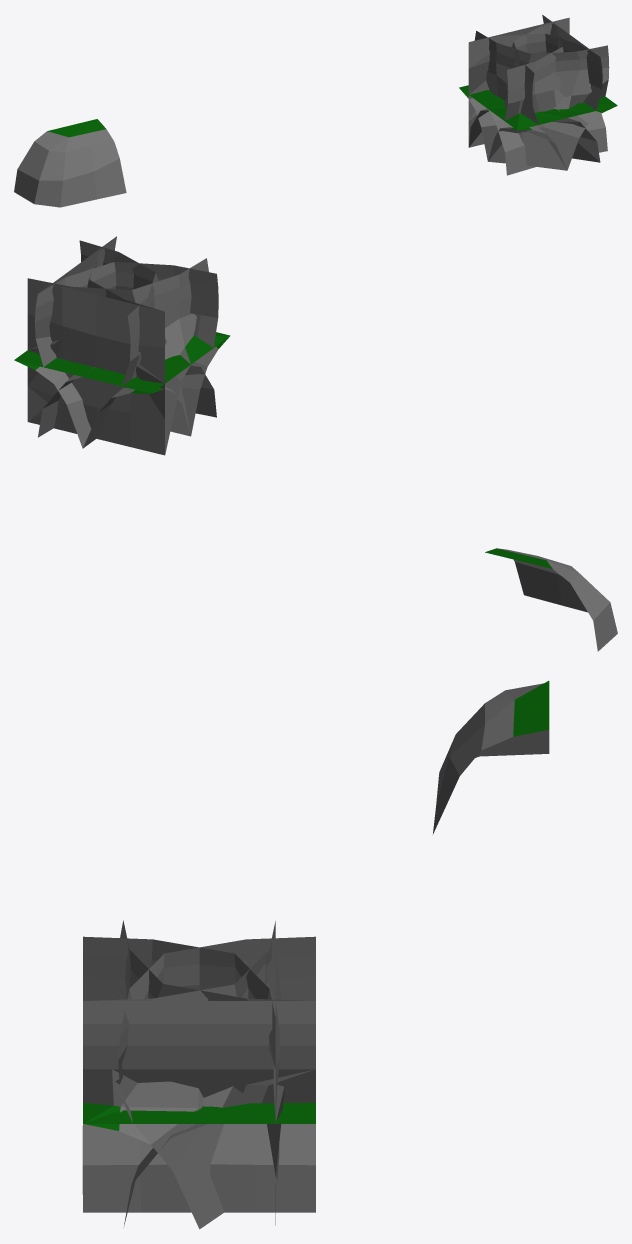
File: wfc_modules.glb
3 renders of one model, top to bottom at view 1: azimuth 30°, elevation 25°; view 2: azimuth 150°, elevation 25°; view 3: azimuth 270°, elevation 25°, orthographic. The views are drawn at different scales.
Visible parts, largest first — view 1: TopCornerTransition.001, wfc_module_2, wfc_module_3, wfc_module_11, wfc_module_1, wfc_module_4, wfc_module_5, wfc_module_9, wfc_module_7, wfc_module_10, wfc_module_12, wfc_module_6 (+1 smaller); view 2: wfc_module_12, wfc_module_1, wfc_module_11, TopCornerTransition.001, wfc_module_2, wfc_module_6, wfc_module_10, wfc_module_4, wfc_module_8, wfc_module_7, wfc_module_3, wfc_module_9; view 3: wfc_module_7, wfc_module_9, wfc_module_3, wfc_module_1, TopCornerTransition.001, wfc_module_2, wfc_module_11.
Boxes of the visible parts, left/top/right/bottom form: TopCornerTransition.001: left=14, top=119, right=126, bottom=207; wfc_module_2: left=459, top=31, right=616, bottom=170; wfc_module_3: left=468, top=33, right=616, bottom=147; wfc_module_11: left=504, top=15, right=592, bottom=120; wfc_module_1: left=469, top=17, right=569, bottom=146; wfc_module_4: left=488, top=109, right=535, bottom=175; wfc_module_5: left=552, top=118, right=600, bottom=162; wfc_module_9: left=459, top=85, right=579, bottom=124; wfc_module_7: left=543, top=15, right=615, bottom=110; wfc_module_10: left=585, top=114, right=607, bottom=152; wfc_module_12: left=468, top=18, right=566, bottom=120; wfc_module_6: left=488, top=127, right=555, bottom=160; wfc_module_12: left=27, top=278, right=164, bottom=455; wfc_module_1: left=27, top=258, right=229, bottom=454; wfc_module_11: left=34, top=262, right=218, bottom=347; TopCornerTransition.001: left=485, top=548, right=617, bottom=651; wfc_module_2: left=79, top=240, right=190, bottom=434; wfc_module_6: left=170, top=336, right=229, bottom=436; wfc_module_10: left=15, top=360, right=91, bottom=448; wfc_module_4: left=38, top=364, right=216, bottom=437; wfc_module_8: left=19, top=350, right=170, bottom=393; wfc_module_7: left=14, top=236, right=116, bottom=367; wfc_module_3: left=87, top=236, right=164, bottom=418; wfc_module_9: left=66, top=355, right=190, bottom=392; wfc_module_7: left=83, top=1001, right=315, bottom=1123; wfc_module_9: left=83, top=1124, right=315, bottom=1212; wfc_module_3: left=83, top=921, right=275, bottom=1229; wfc_module_1: left=83, top=936, right=284, bottom=1225; TopCornerTransition.001: left=433, top=681, right=549, bottom=833; wfc_module_2: left=115, top=936, right=315, bottom=1122; wfc_module_11: left=120, top=920, right=315, bottom=1107.
Size of the model in its own units: 4.83 by 1 by 2.
